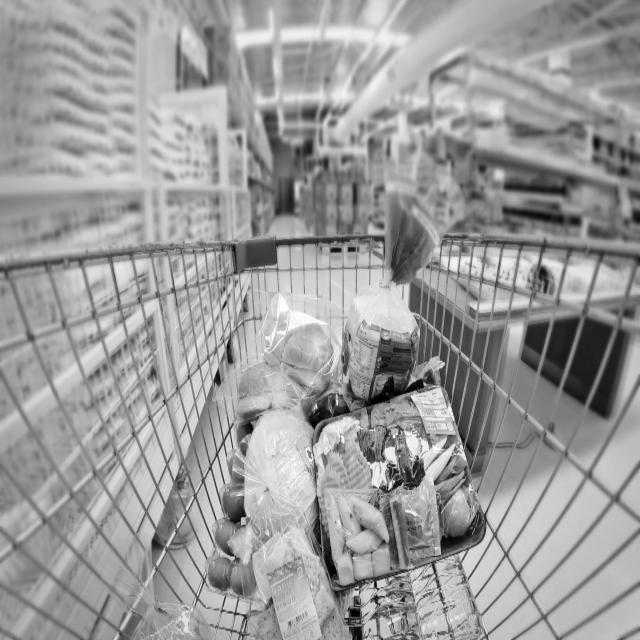banh mi: (349, 198, 439, 402), (250, 532, 348, 640)
bap cai: (242, 409, 321, 547)
trung: (210, 419, 268, 597)
